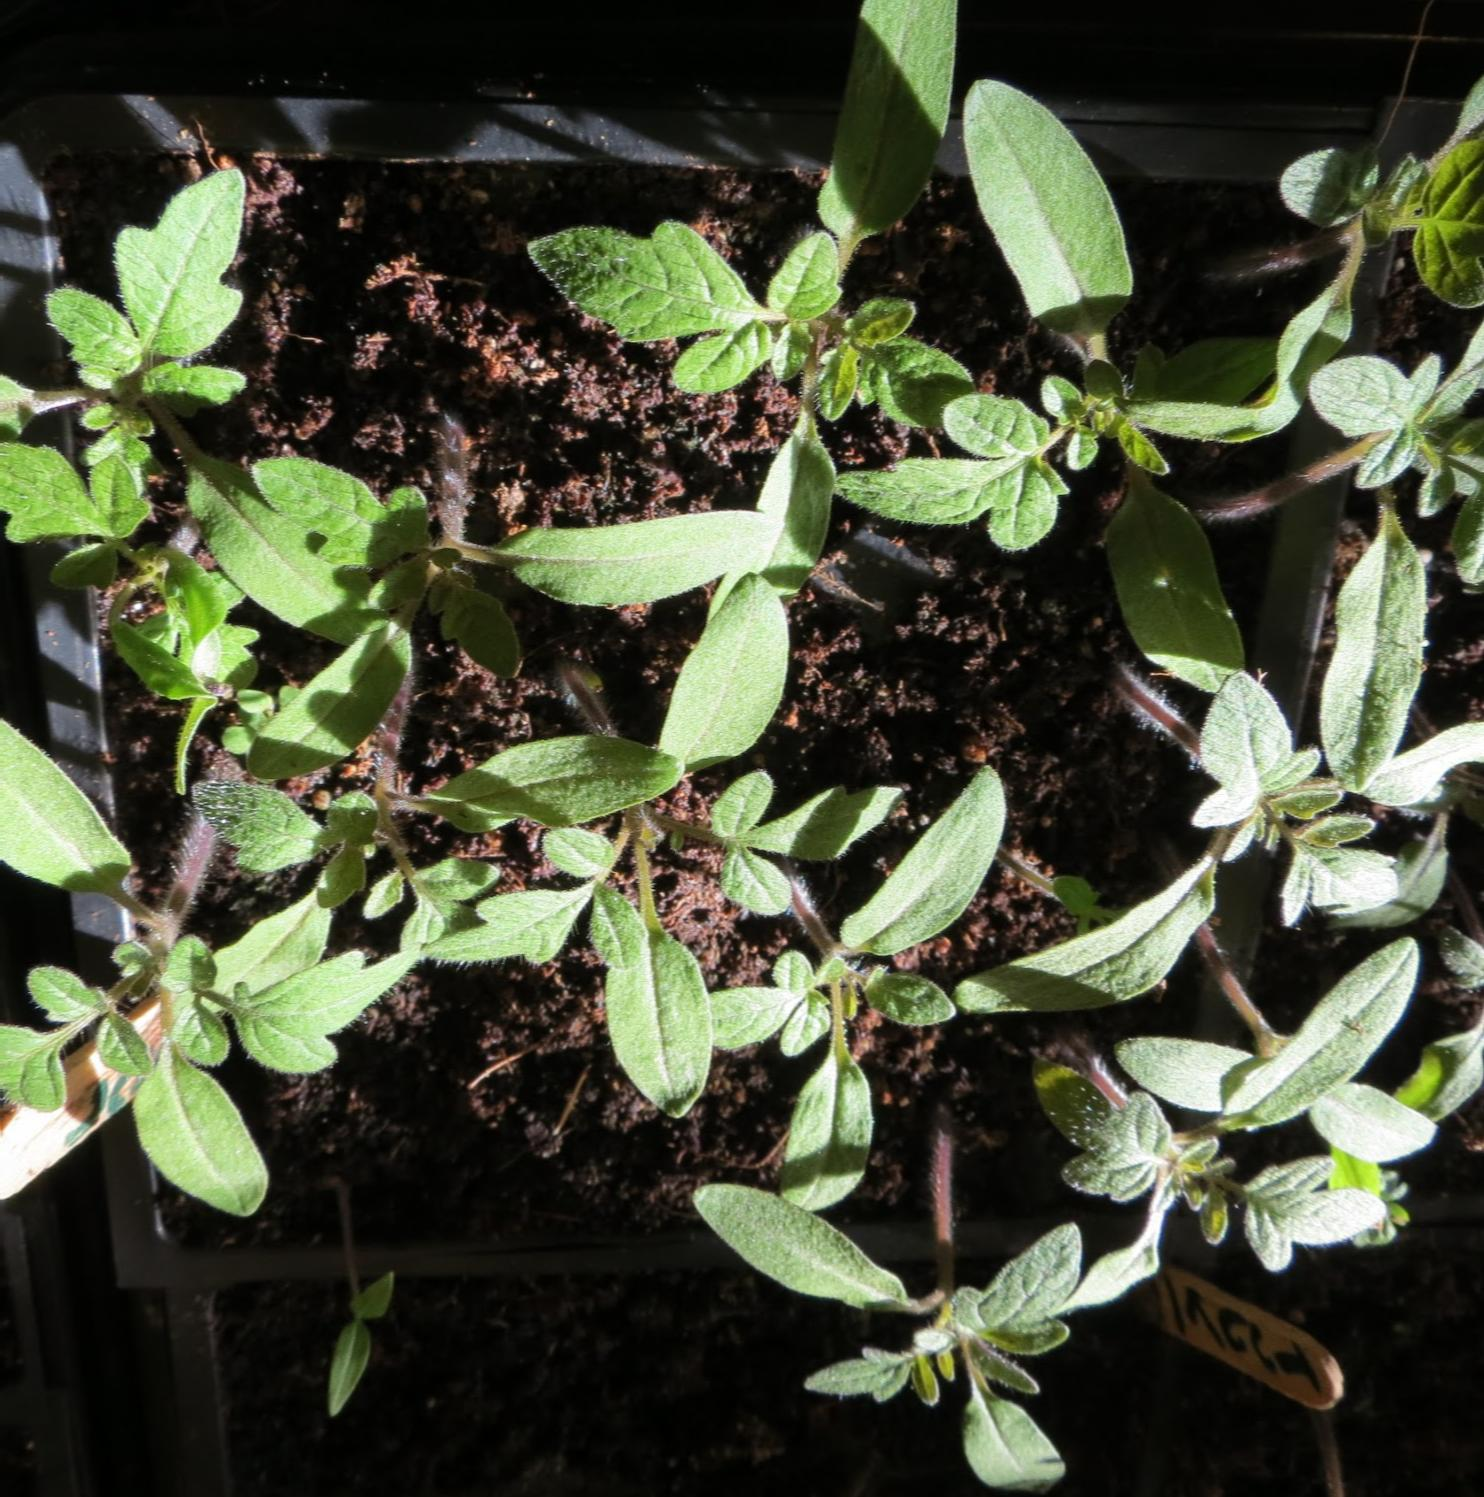Tomato leaf: (48, 148, 283, 418), (957, 65, 1142, 375), (1190, 931, 1432, 1151), (1311, 465, 1461, 818), (1087, 413, 1258, 706), (819, 751, 1012, 992), (830, 386, 1094, 561), (938, 867, 1231, 1016), (800, 0, 977, 243), (688, 1170, 943, 1327), (515, 179, 750, 346), (640, 572, 794, 792), (245, 583, 419, 774), (124, 1020, 270, 1244), (497, 499, 787, 611), (226, 926, 434, 1076), (0, 660, 116, 913), (597, 899, 713, 1144), (760, 1013, 889, 1219), (931, 1320, 1065, 1497), (0, 974, 159, 1118), (947, 1202, 1080, 1360), (0, 451, 130, 560)
